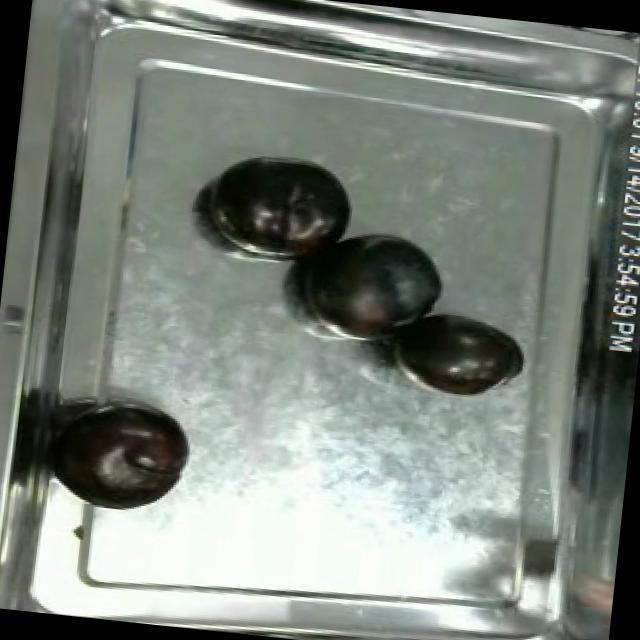Fruit: (290, 219, 453, 343), (200, 144, 362, 263), (52, 393, 198, 518), (388, 302, 530, 404)
